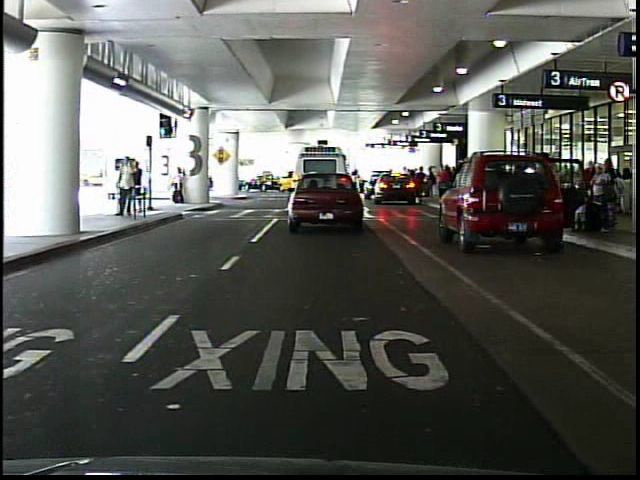person: (531, 150, 565, 235), (114, 153, 138, 222), (132, 159, 149, 219), (169, 168, 189, 209), (436, 164, 452, 202)
